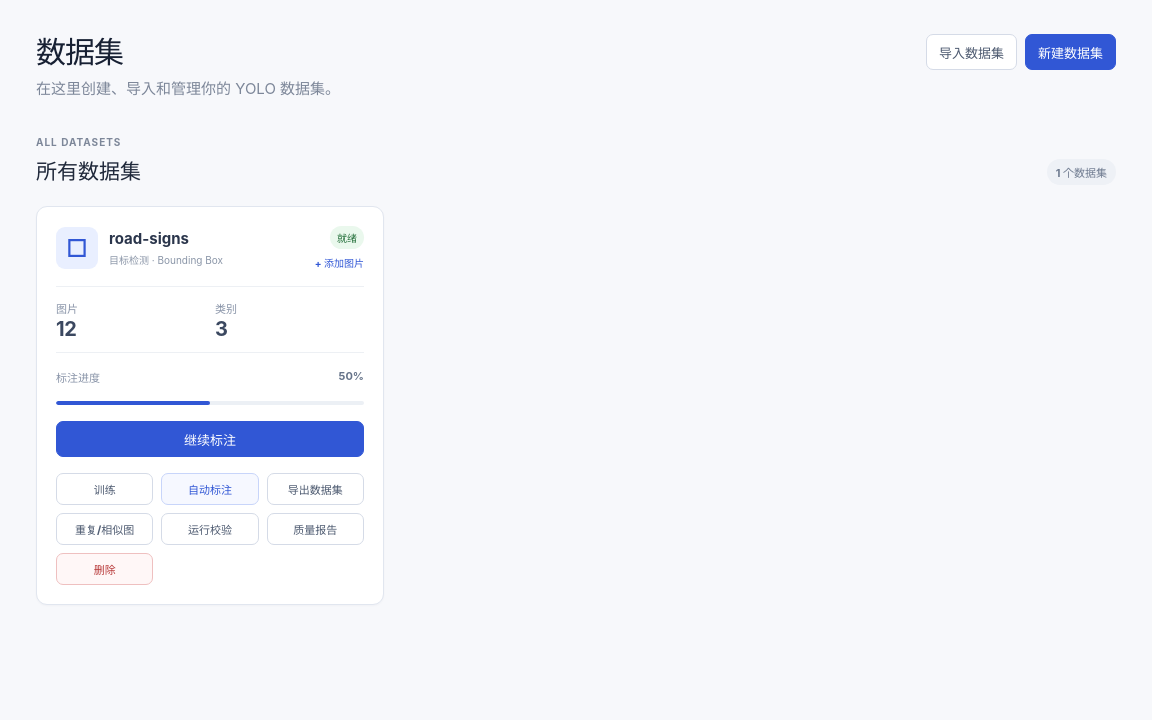
Scenario: DatasetHome card reports › runs validation and quality checks from the dataset card
The width and height of the screenshot is (1152, 720).
Click the button "运行校验" at [210, 529], box [161,513,259,545]
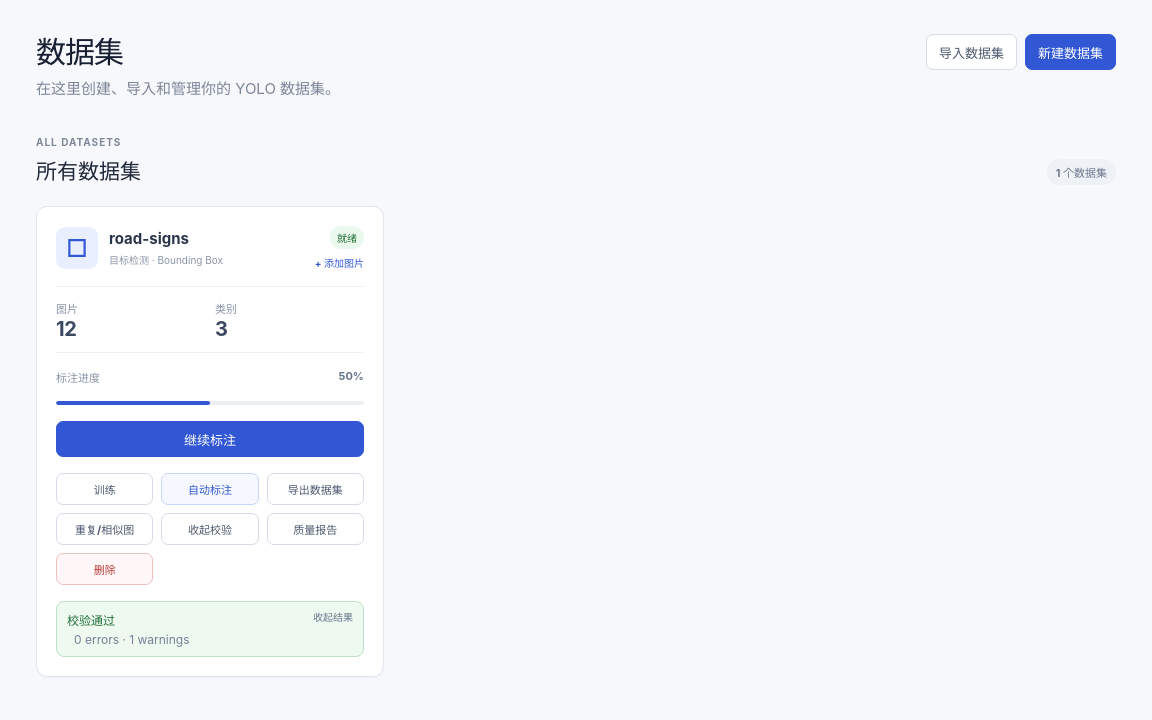
Expected: the text "校验通过" is shown, [67,613,115,628]
Click the button "收起校验" at [210, 529], box [161,513,259,545]
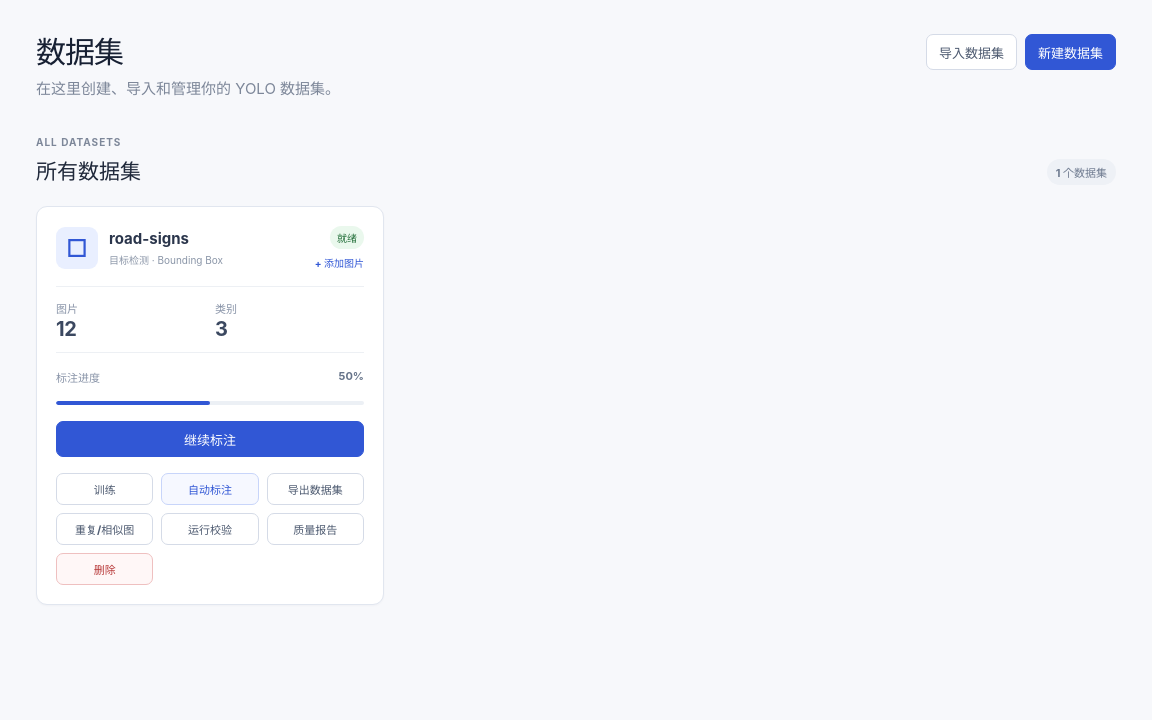
Expected: the text "校验通过" is gone
Click the button "质量报告" at [315, 529], box [267,513,364,545]
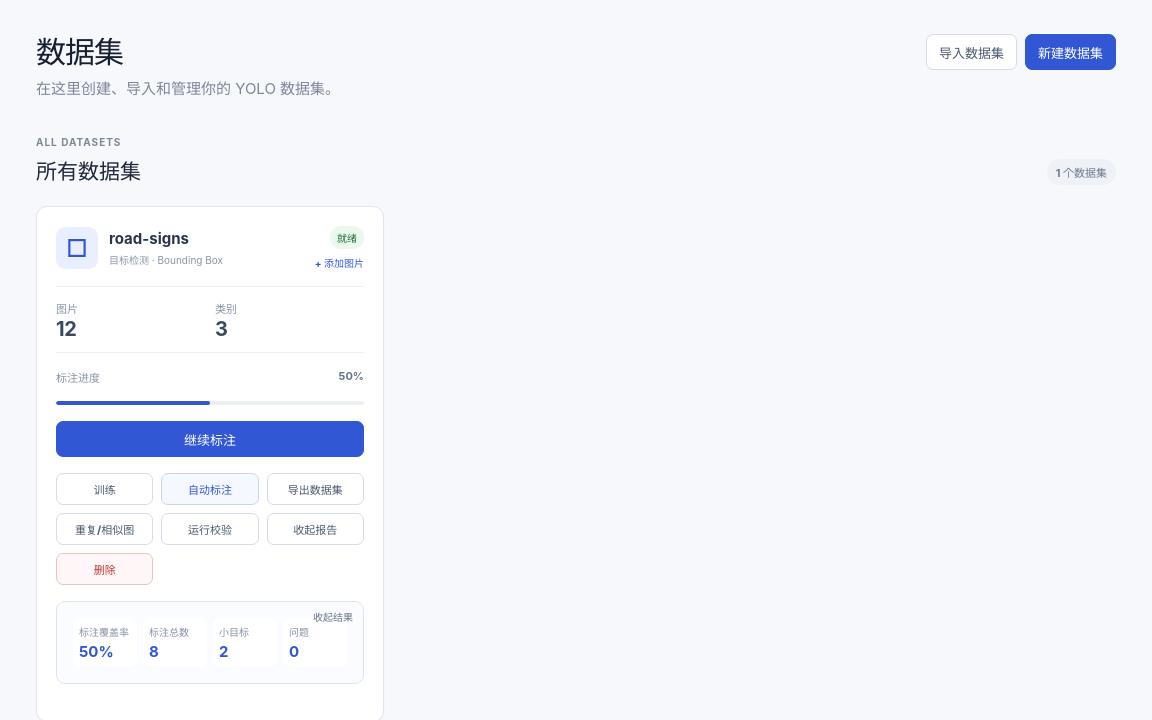
Expected: the text "标注覆盖率" is shown, [79,624,131,639]
